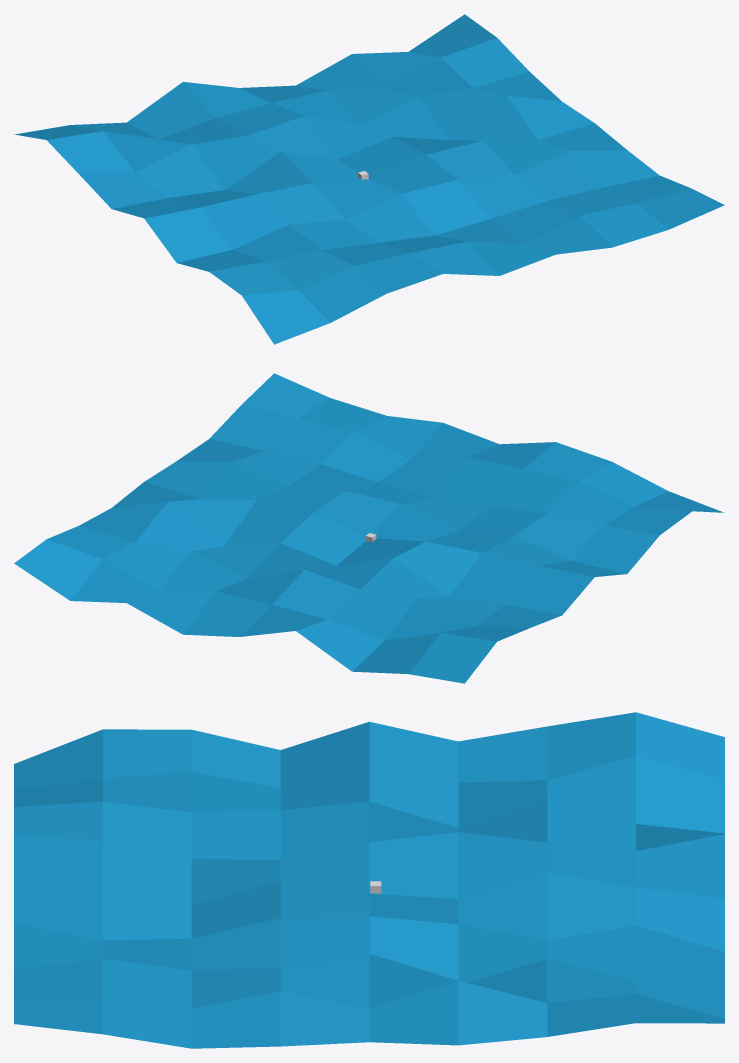
Rendered from sea.fbx.
The picture shows the model from 3 angles, top to bottom: view 1: azimuth 30°, elevation 25°; view 2: azimuth 150°, elevation 25°; view 3: azimuth 270°, elevation 25°; orthographic projection. The views are drawn at different scales.
Visible parts, largest first — view 1: Plane; view 2: Plane; view 3: Plane.
Boxes of the visible parts, left/top/right/bottom form: Plane: left=14, top=14, right=724, bottom=344; Plane: left=14, top=373, right=724, bottom=683; Plane: left=14, top=712, right=724, bottom=1048.
Size of the model in its own units: 63448 by 5116 by 63448.
